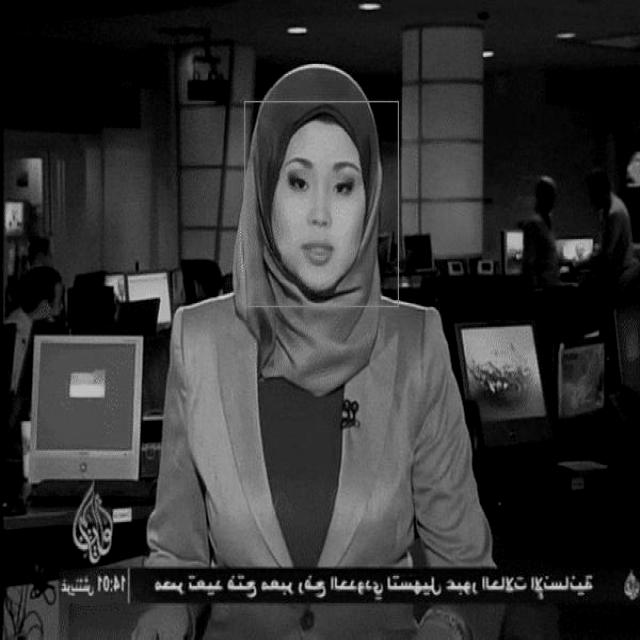fake: (244, 102, 399, 312)
